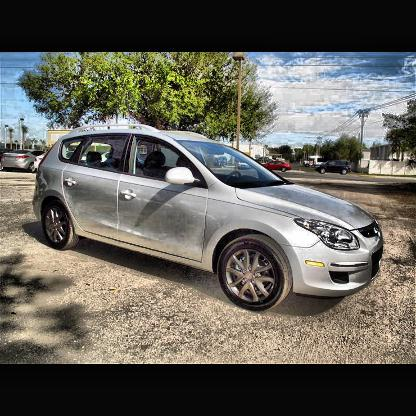Hyundai Elantra Touring Hatchback 2012: (33, 118, 386, 314)
